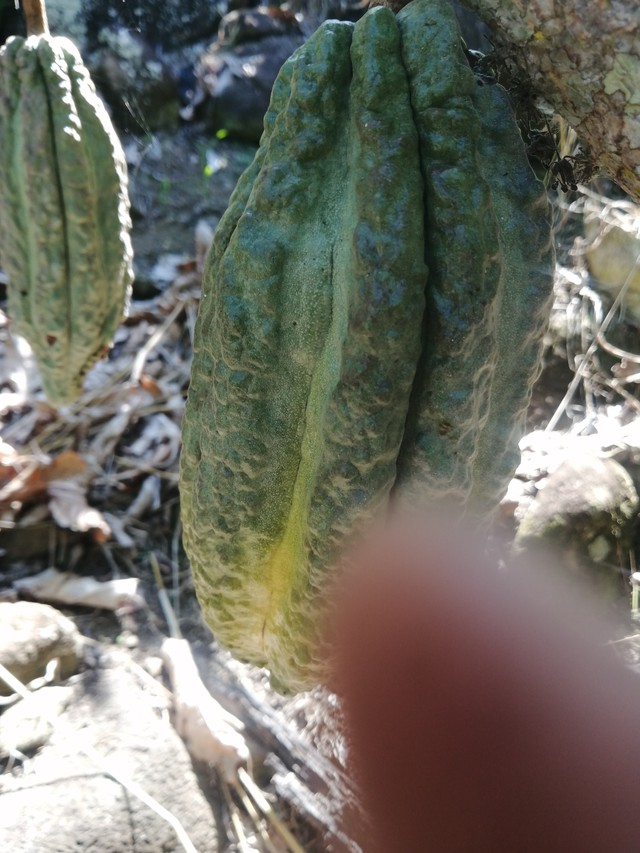Health: (153, 0, 570, 716)
